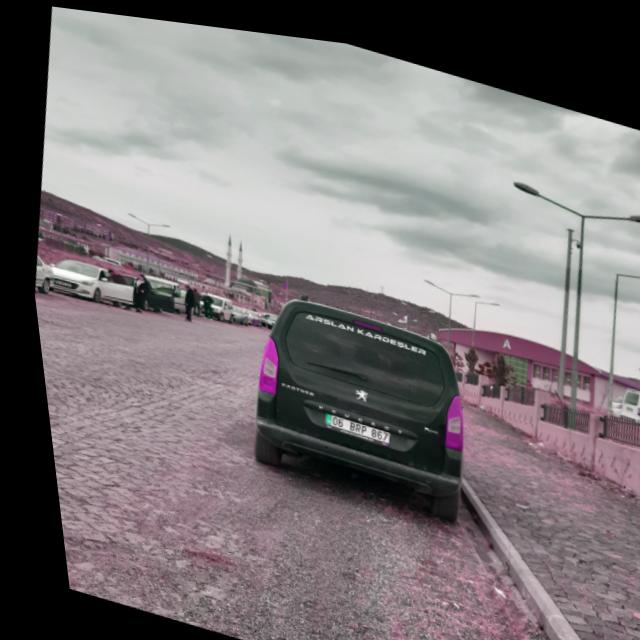license_plate: (315, 406, 381, 435)
